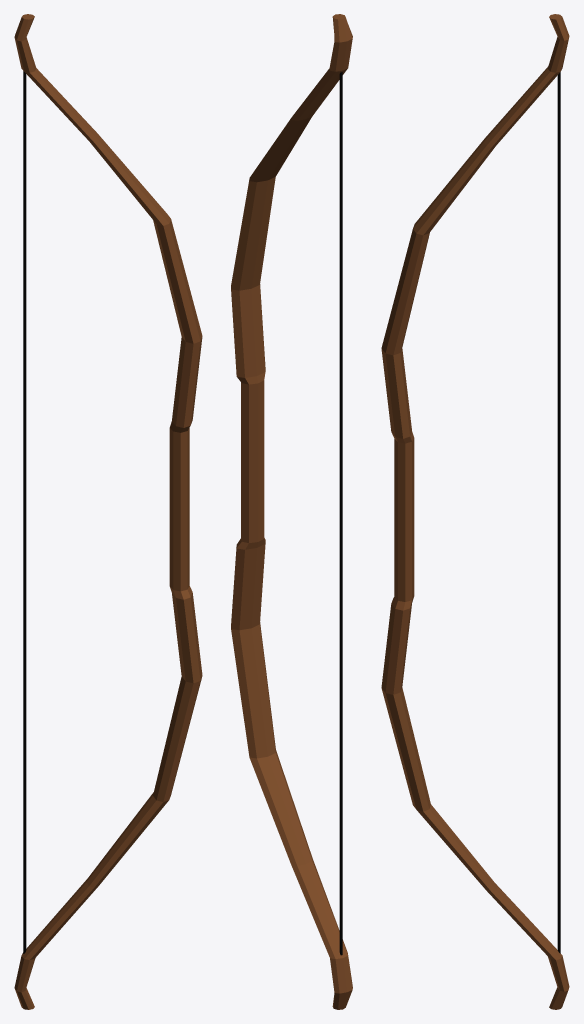
Rendered from bow.fbx.
The picture shows the model from 3 angles, left to right: view 1: azimuth 90°, elevation 25°; view 2: azimuth 210°, elevation 25°; view 3: azimuth 270°, elevation 25°; orthographic projection.
Visible parts, largest first — view 1: Cylinder; view 2: Cylinder; view 3: Cylinder.
Part boxes in pixels (left/top/right/bottom): Cylinder: left=14, top=14, right=202, bottom=1009; Cylinder: left=231, top=14, right=352, bottom=1009; Cylinder: left=381, top=14, right=569, bottom=1009.
Size of the model in its own units: 4.93 by 125 by 21.5.
